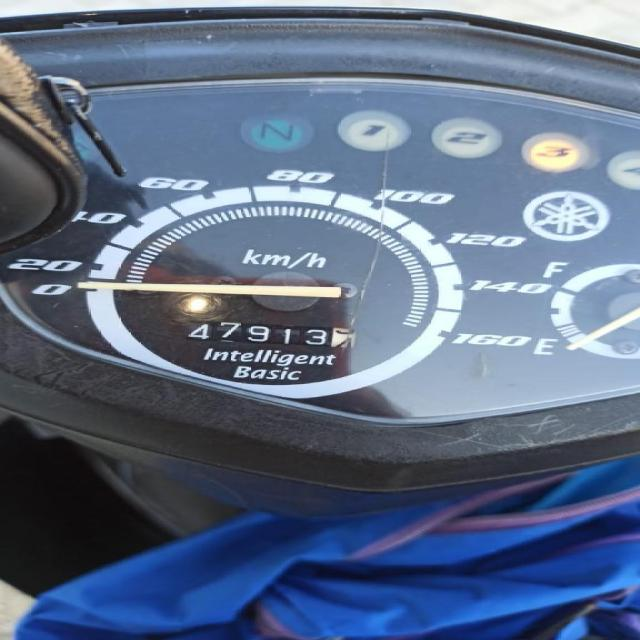odometer: (183, 320, 357, 349)
